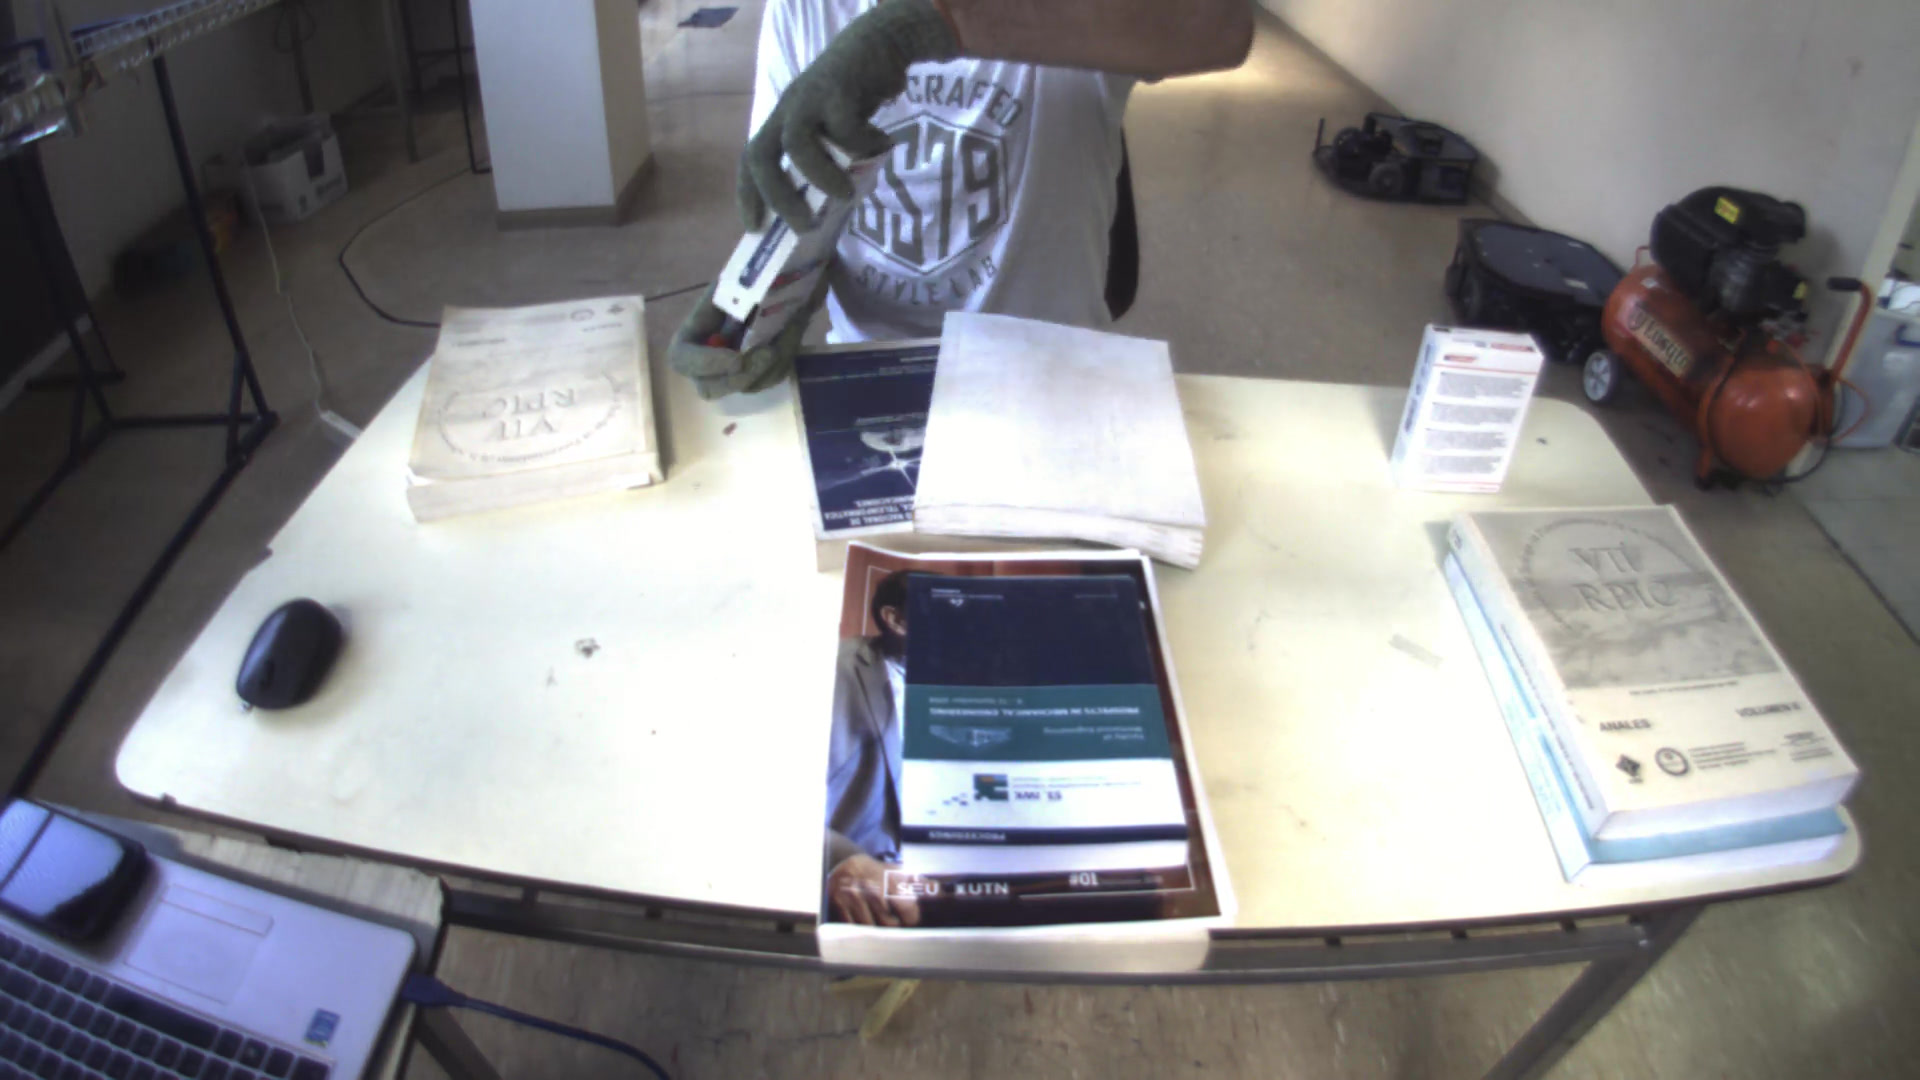hand: (732, 29, 913, 255), (659, 264, 804, 407)
